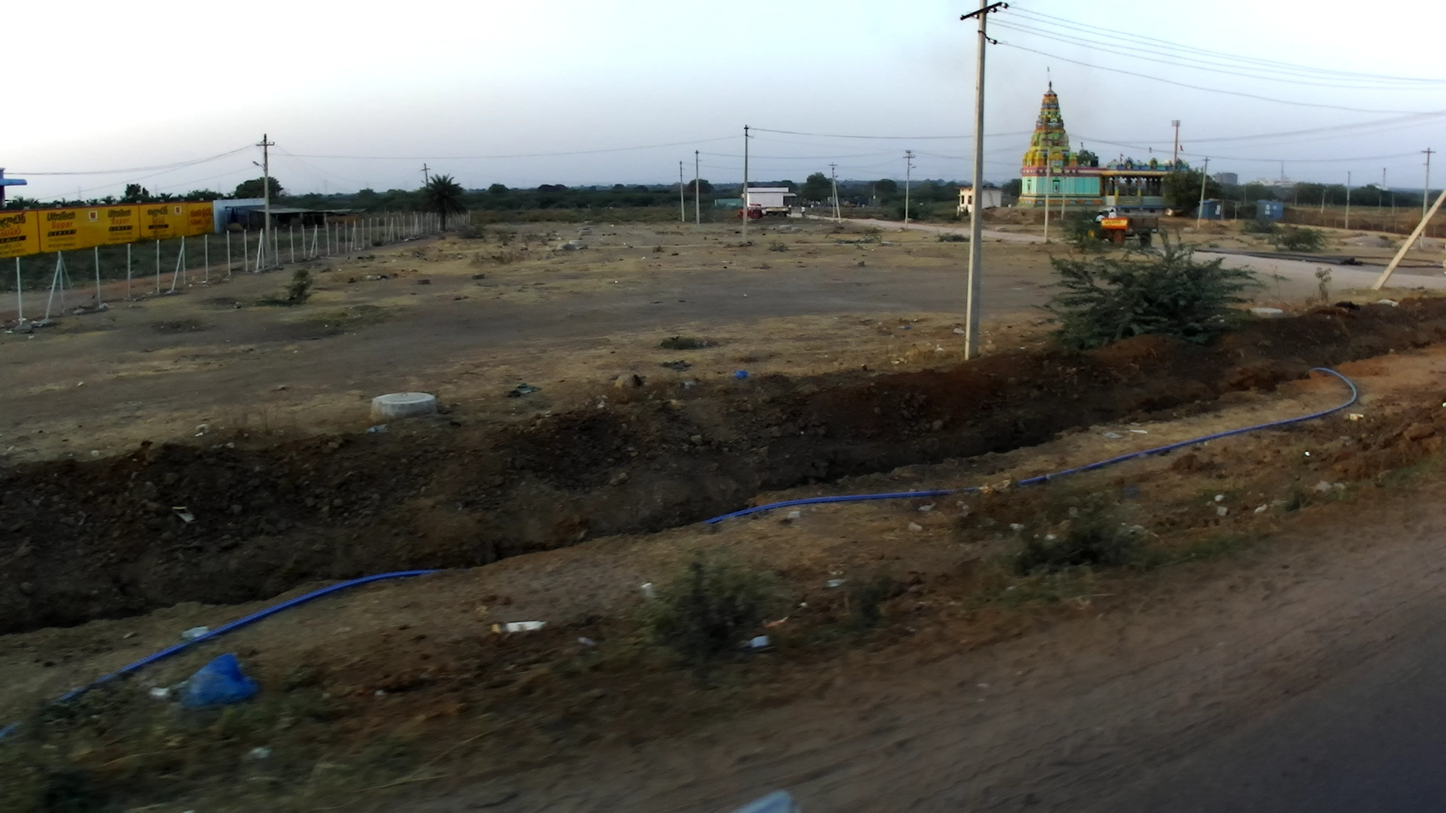person: (801, 206, 806, 218)
rider: (1094, 211, 1106, 222), (1108, 209, 1118, 218)
vehicle fallback: (1075, 209, 1159, 248), (738, 203, 793, 220)
